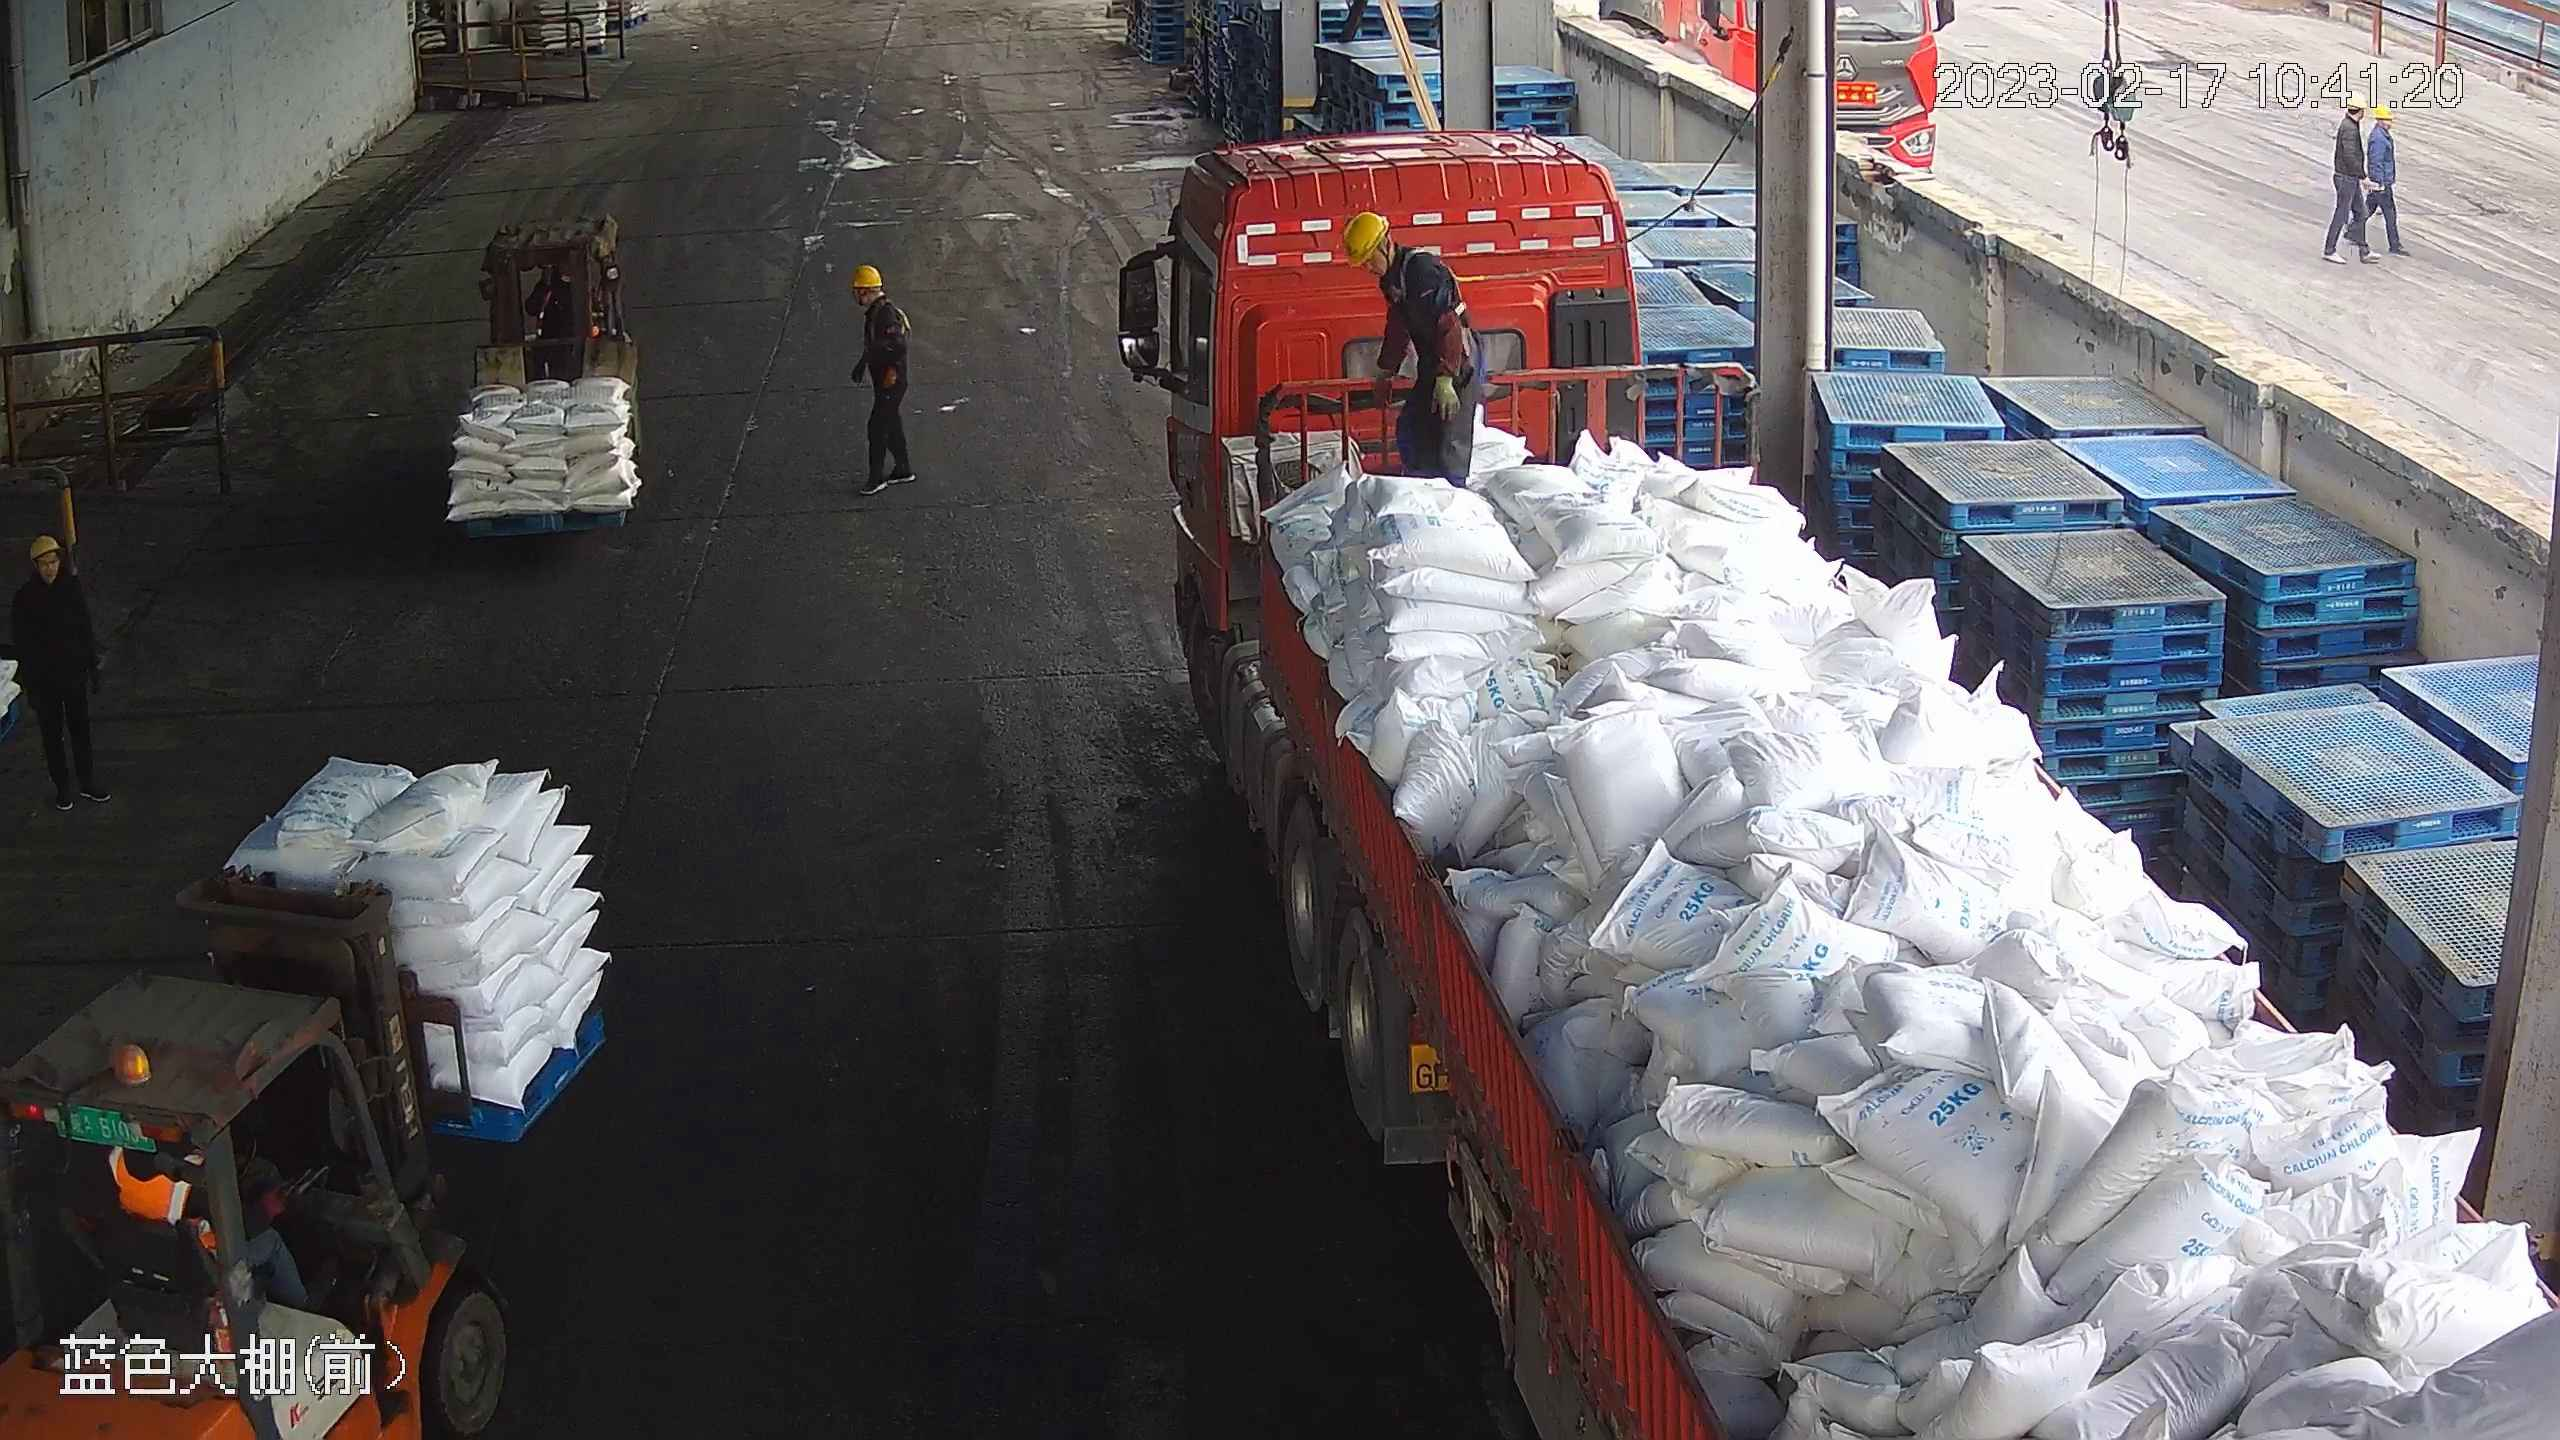belt: (1390, 238, 1472, 308)
head: (1340, 211, 1451, 304), (8, 532, 92, 617), (847, 265, 907, 339), (2370, 101, 2399, 151)
helmet: (1338, 210, 1392, 265), (26, 534, 62, 562), (849, 262, 883, 289), (2345, 88, 2368, 110), (2372, 103, 2395, 122)
people: (1341, 211, 1483, 488), (4, 529, 113, 816), (850, 264, 916, 494), (2326, 90, 2385, 265), (2366, 100, 2414, 258), (2334, 91, 2368, 149)
truck: (1109, 133, 2558, 1440)
